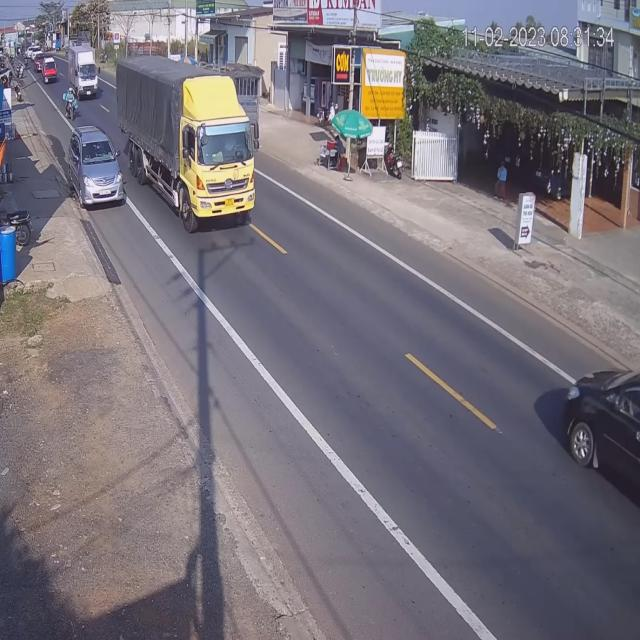car: (560, 368, 638, 532), (67, 126, 123, 207), (44, 55, 60, 85)
motorbike: (64, 87, 79, 121)
truck: (115, 58, 256, 228), (68, 48, 97, 102)
